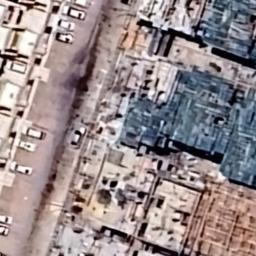SUV: (60, 4, 88, 20)
pickup: (16, 138, 38, 154)
sedan: (67, 125, 88, 152), (6, 160, 36, 176), (18, 123, 46, 140), (53, 29, 75, 45), (55, 18, 77, 32), (0, 212, 14, 226)
